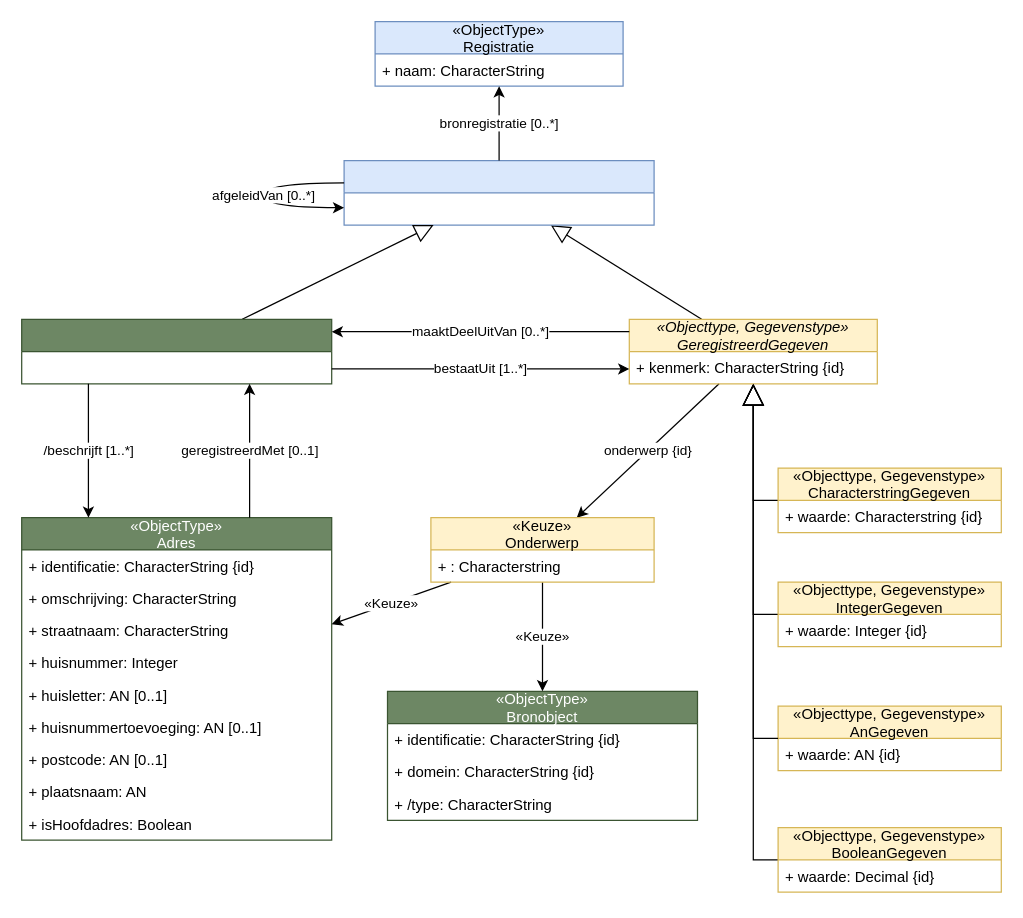
This 1023x918 diagram has some shape labels left out. Here are the shapes that lost their labels. From the top down, the centre of each, then its label:
At (498,192): "«ObjectType» ObjectMetHerkomst".
At (176,351): "«Objecttype, Metadata» Registratiegegevens".
